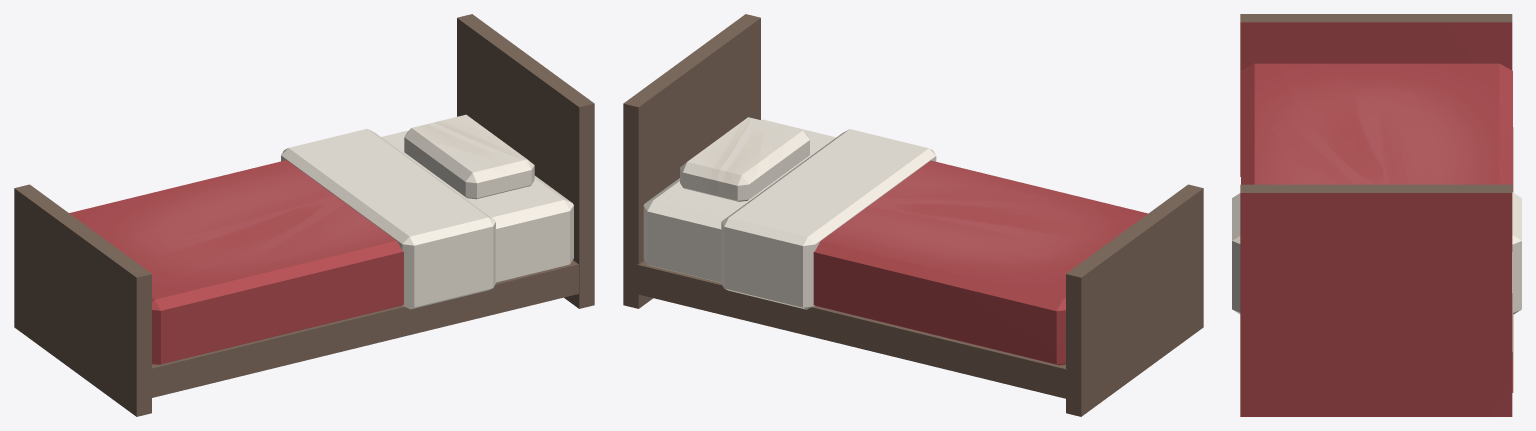
Rendered from bed.fbx.
The picture shows the model from 3 angles, left to right: view 1: azimuth 30°, elevation 25°; view 2: azimuth 150°, elevation 25°; view 3: azimuth 270°, elevation 25°; orthographic projection. The views are drawn at different scales.
Visible parts, largest first — view 1: bed; view 2: bed; view 3: bed.
Part boxes in pixels (x1,y1,x2,y2): bed: [14, 14, 594, 416]; bed: [623, 14, 1203, 416]; bed: [1232, 14, 1521, 416].
Bounding box in the file's own units: 2.16 × 0.9088 × 1.07.
